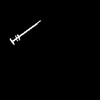treble_crochet: (10, 21, 39, 43)
